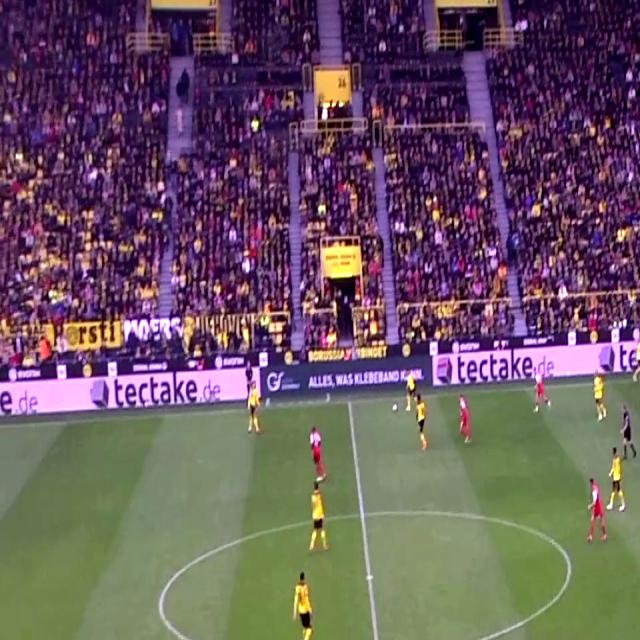ball: (389, 399, 403, 415)
referee: (621, 399, 640, 466)
soccer-player: (289, 559, 317, 640), (582, 470, 606, 551), (306, 483, 330, 559), (242, 352, 262, 442), (306, 417, 328, 498), (610, 444, 629, 522), (535, 353, 554, 418), (459, 390, 478, 453), (414, 388, 431, 456), (591, 364, 606, 427), (402, 362, 418, 416)
